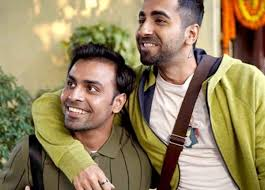Bad: (1, 1, 265, 189)
